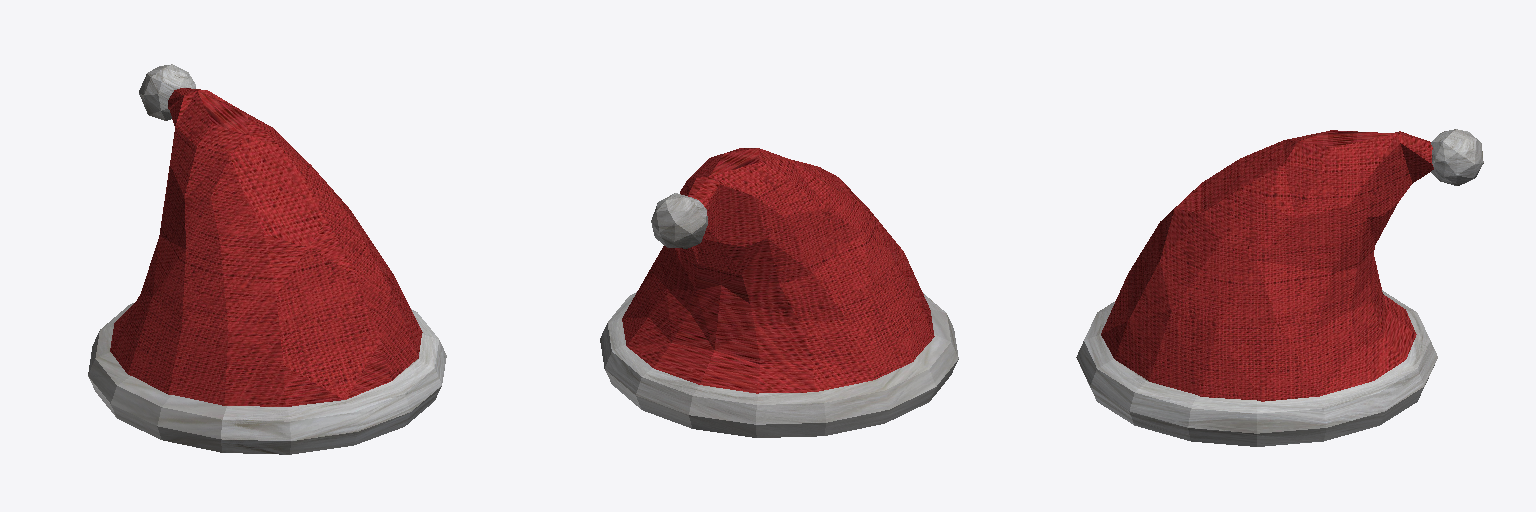
3 renders of one model, left to right at view 1: azimuth 30°, elevation 25°; view 2: azimuth 150°, elevation 25°; view 3: azimuth 270°, elevation 25°, orthographic.
Parts seen in each view (by area): view 1: body.001; view 2: body.001; view 3: body.001.
Boxes of the visible parts, x1=… form: body.001: x1=88, y1=64, x2=446, y2=454; body.001: x1=600, y1=148, x2=958, y2=437; body.001: x1=1076, y1=129, x2=1483, y2=446.
Bounding box in the file's own units: 3.43 × 2.61 × 3.86.
Materials: 2 (2 with a texture image).